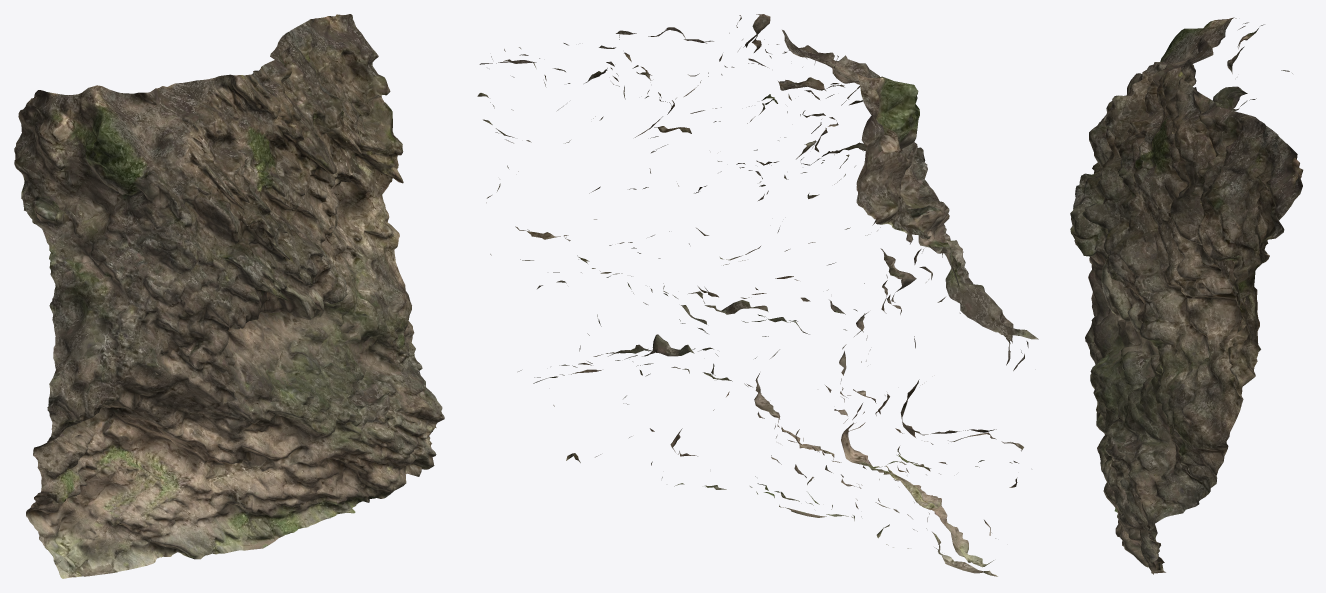
File: mountainside.glb
3 renders of one model, left to right at view 1: azimuth 30°, elevation 25°; view 2: azimuth 150°, elevation 25°; view 3: azimuth 270°, elevation 25°, orthographic. The views are drawn at different scales.
Visible parts, largest first — view 1: mountainside_lod0; view 2: mountainside_lod0; view 3: mountainside_lod0.
Part boxes in pixels (x1,y1,x2,y2): mountainside_lod0: (14, 14, 444, 578); mountainside_lod0: (477, 14, 1038, 576); mountainside_lod0: (1070, 17, 1303, 574).
Size of what is drawn, in the model's own units: 10.21 by 10.52 by 5.25.
Materials: 1 (1 with a texture image).
